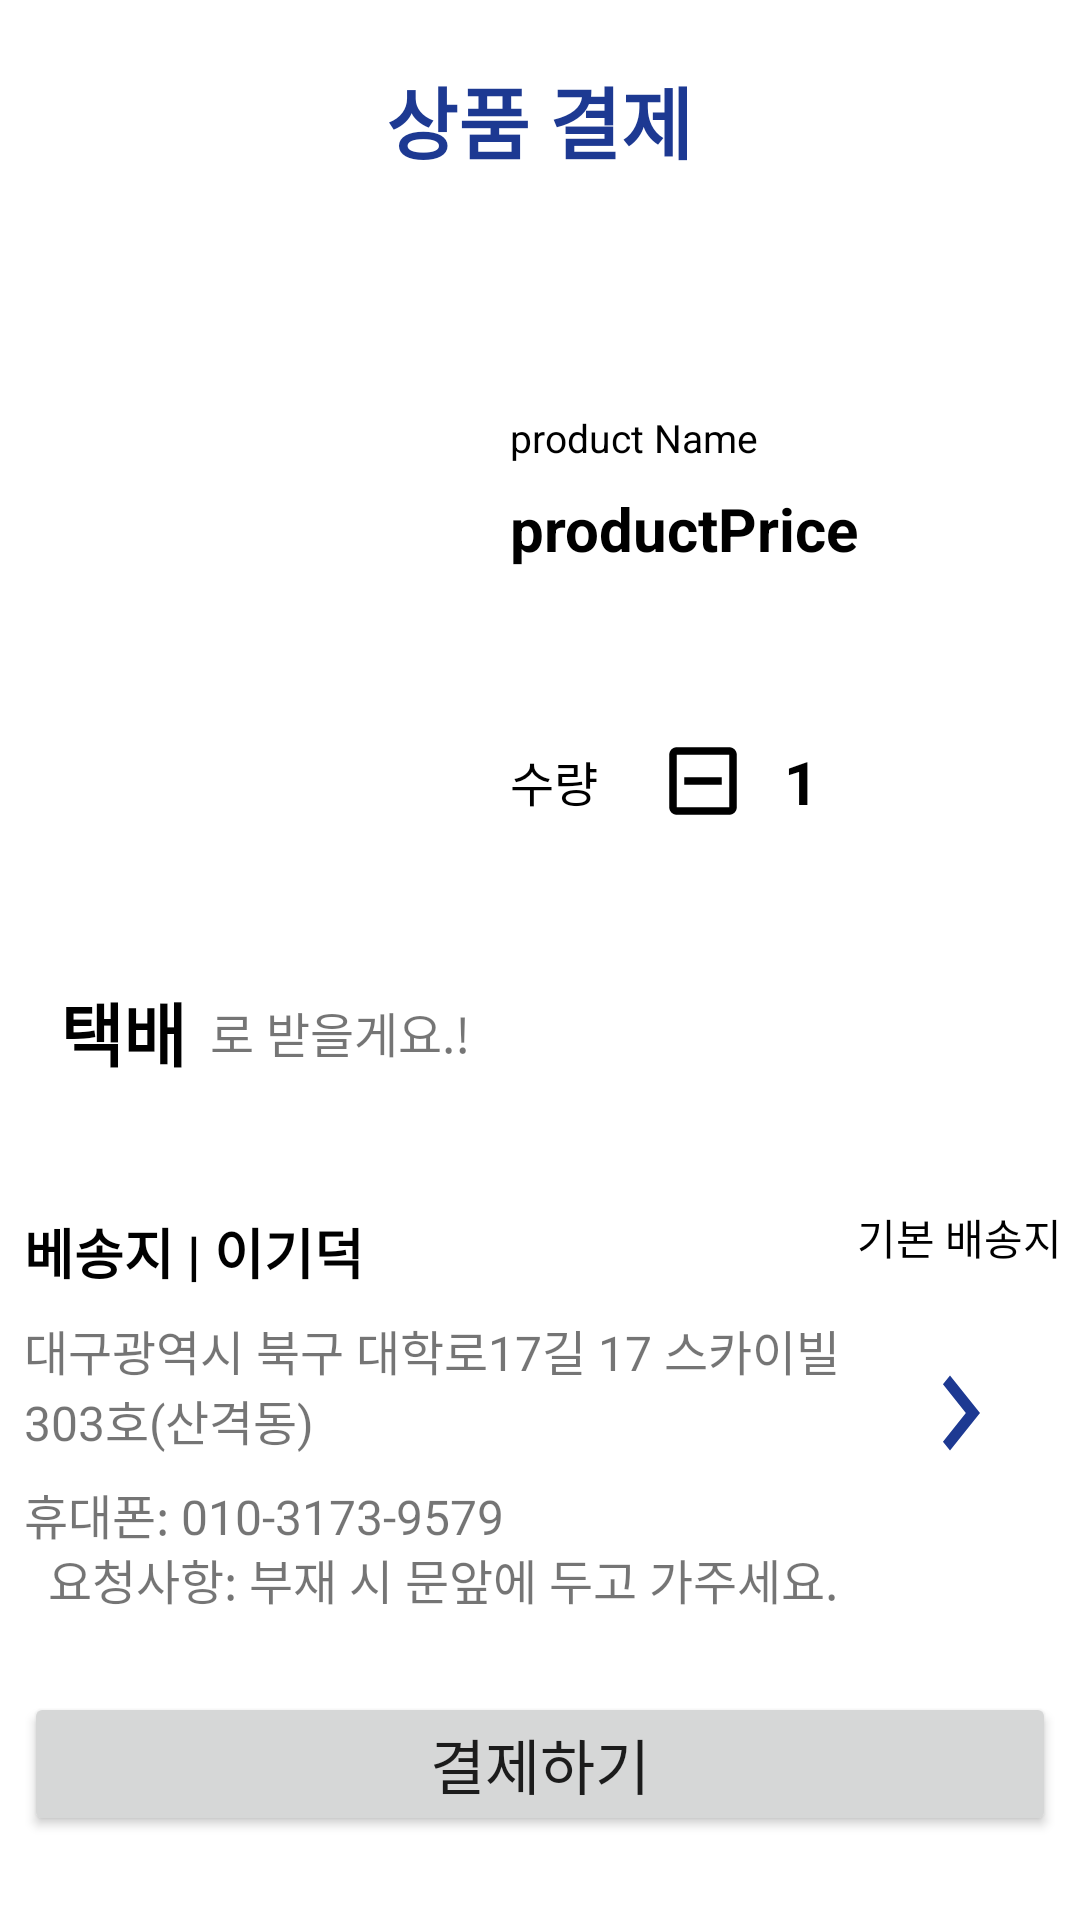

Icon click points for this 1080x1920 phone screenshot, format point (x, y):
indeterminate check box: point (703, 781)
right: point (961, 1413)
